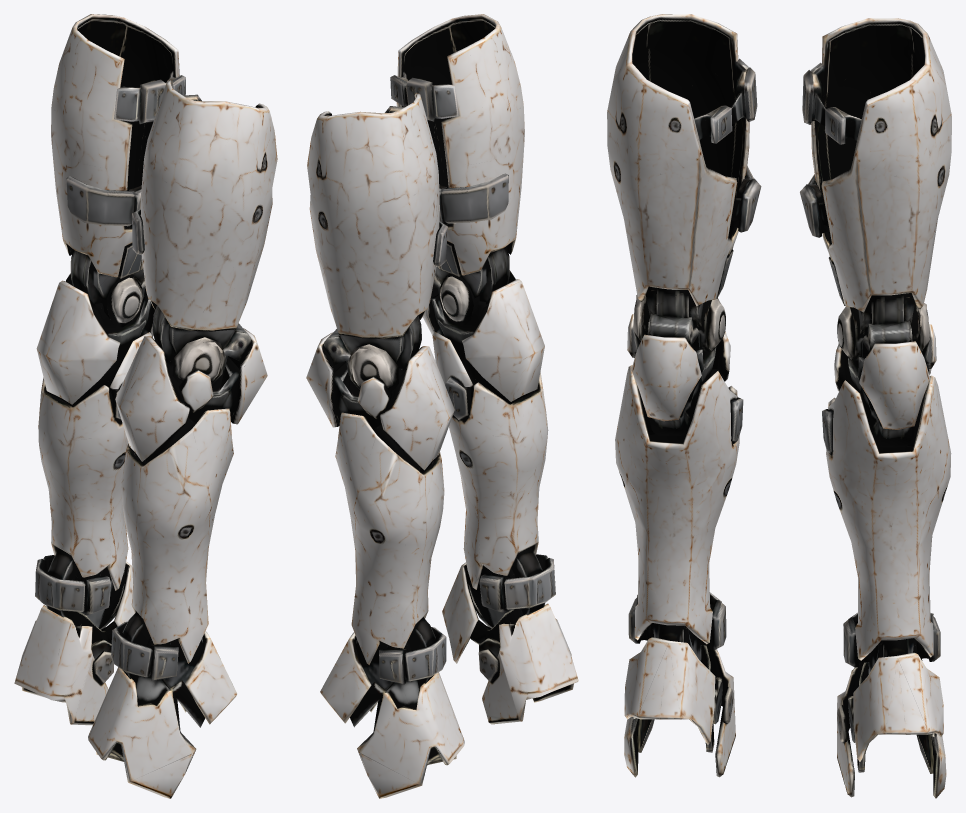
Rendered from Legs_Common_01.glb.
3 views of the same model, side by side, from view 1: azimuth 30°, elevation 25°; view 2: azimuth 150°, elevation 25°; view 3: azimuth 270°, elevation 25° (orthographic). The views are drawn at different scales.
Visible parts, largest first — view 1: Leg_R, Leg_L; view 2: Leg_L, Leg_R; view 3: Leg_L, Leg_R.
Part boxes in pixels (bbox=[...]): Leg_R: bbox=[88, 79, 277, 798]; Leg_L: bbox=[14, 14, 185, 725]; Leg_L: bbox=[306, 92, 464, 798]; Leg_R: bbox=[390, 14, 578, 724]; Leg_L: bbox=[800, 18, 951, 798]; Leg_R: bbox=[607, 14, 761, 777].
Size of the model in its own units: 0.2561 by 0.981 by 0.39.
Materials: 1 (1 with a texture image).
